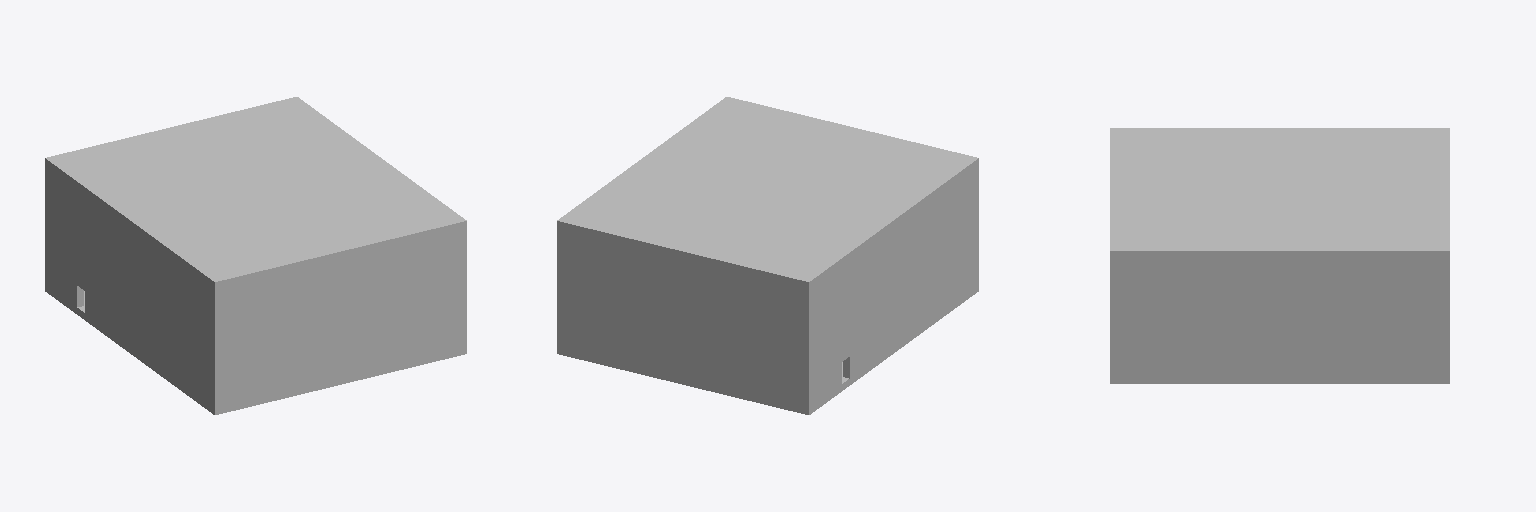
Rendered from lobby_roof.obj.
3 views of the same model, side by side, from view 1: azimuth 30°, elevation 25°; view 2: azimuth 150°, elevation 25°; view 3: azimuth 270°, elevation 25° (orthographic).
Parts seen in each view (by area): view 1: object 1; view 2: object 1; view 3: object 1.
Boxes of the visible parts, x1=… form: object 1: x1=45, y1=97, x2=466, y2=414; object 1: x1=557, y1=97, x2=978, y2=414; object 1: x1=1110, y1=128, x2=1449, y2=383.
Bounding box in the file's own units: 21.6 × 10.9 × 25.2.